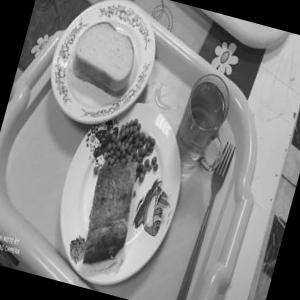bread: (62, 12, 147, 102)
casserole: (60, 112, 172, 276)
tea: (165, 61, 245, 174)
